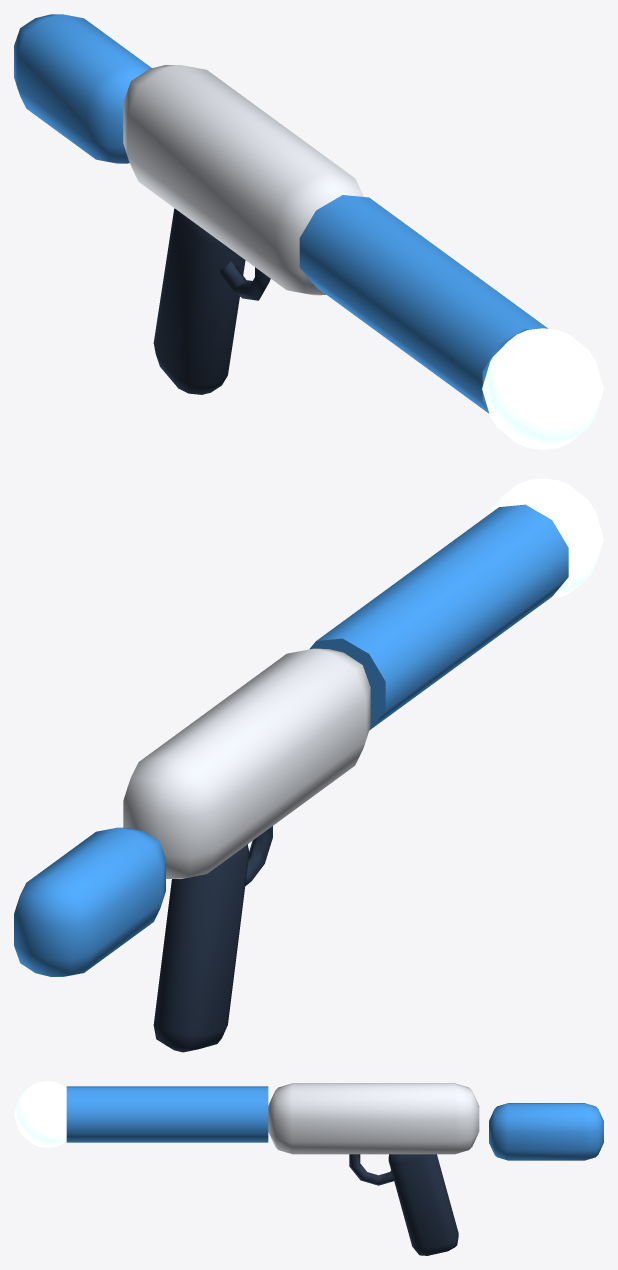
The model's file is FrostRay.fbx.
3 views of the same model, one above another, from view 1: azimuth 30°, elevation 25°; view 2: azimuth 150°, elevation 25°; view 3: azimuth 270°, elevation 25° (orthographic). The views are drawn at different scales.
Visible parts, largest first — view 1: FrostRay; view 2: FrostRay; view 3: FrostRay.
Boxes of the visible parts, x1,y1,x2,y2 form: FrostRay: (14, 14, 603, 449); FrostRay: (14, 478, 603, 1052); FrostRay: (14, 1081, 603, 1255).
Bounding box in the file's own units: 0.07 × 0.1957 × 0.615.
